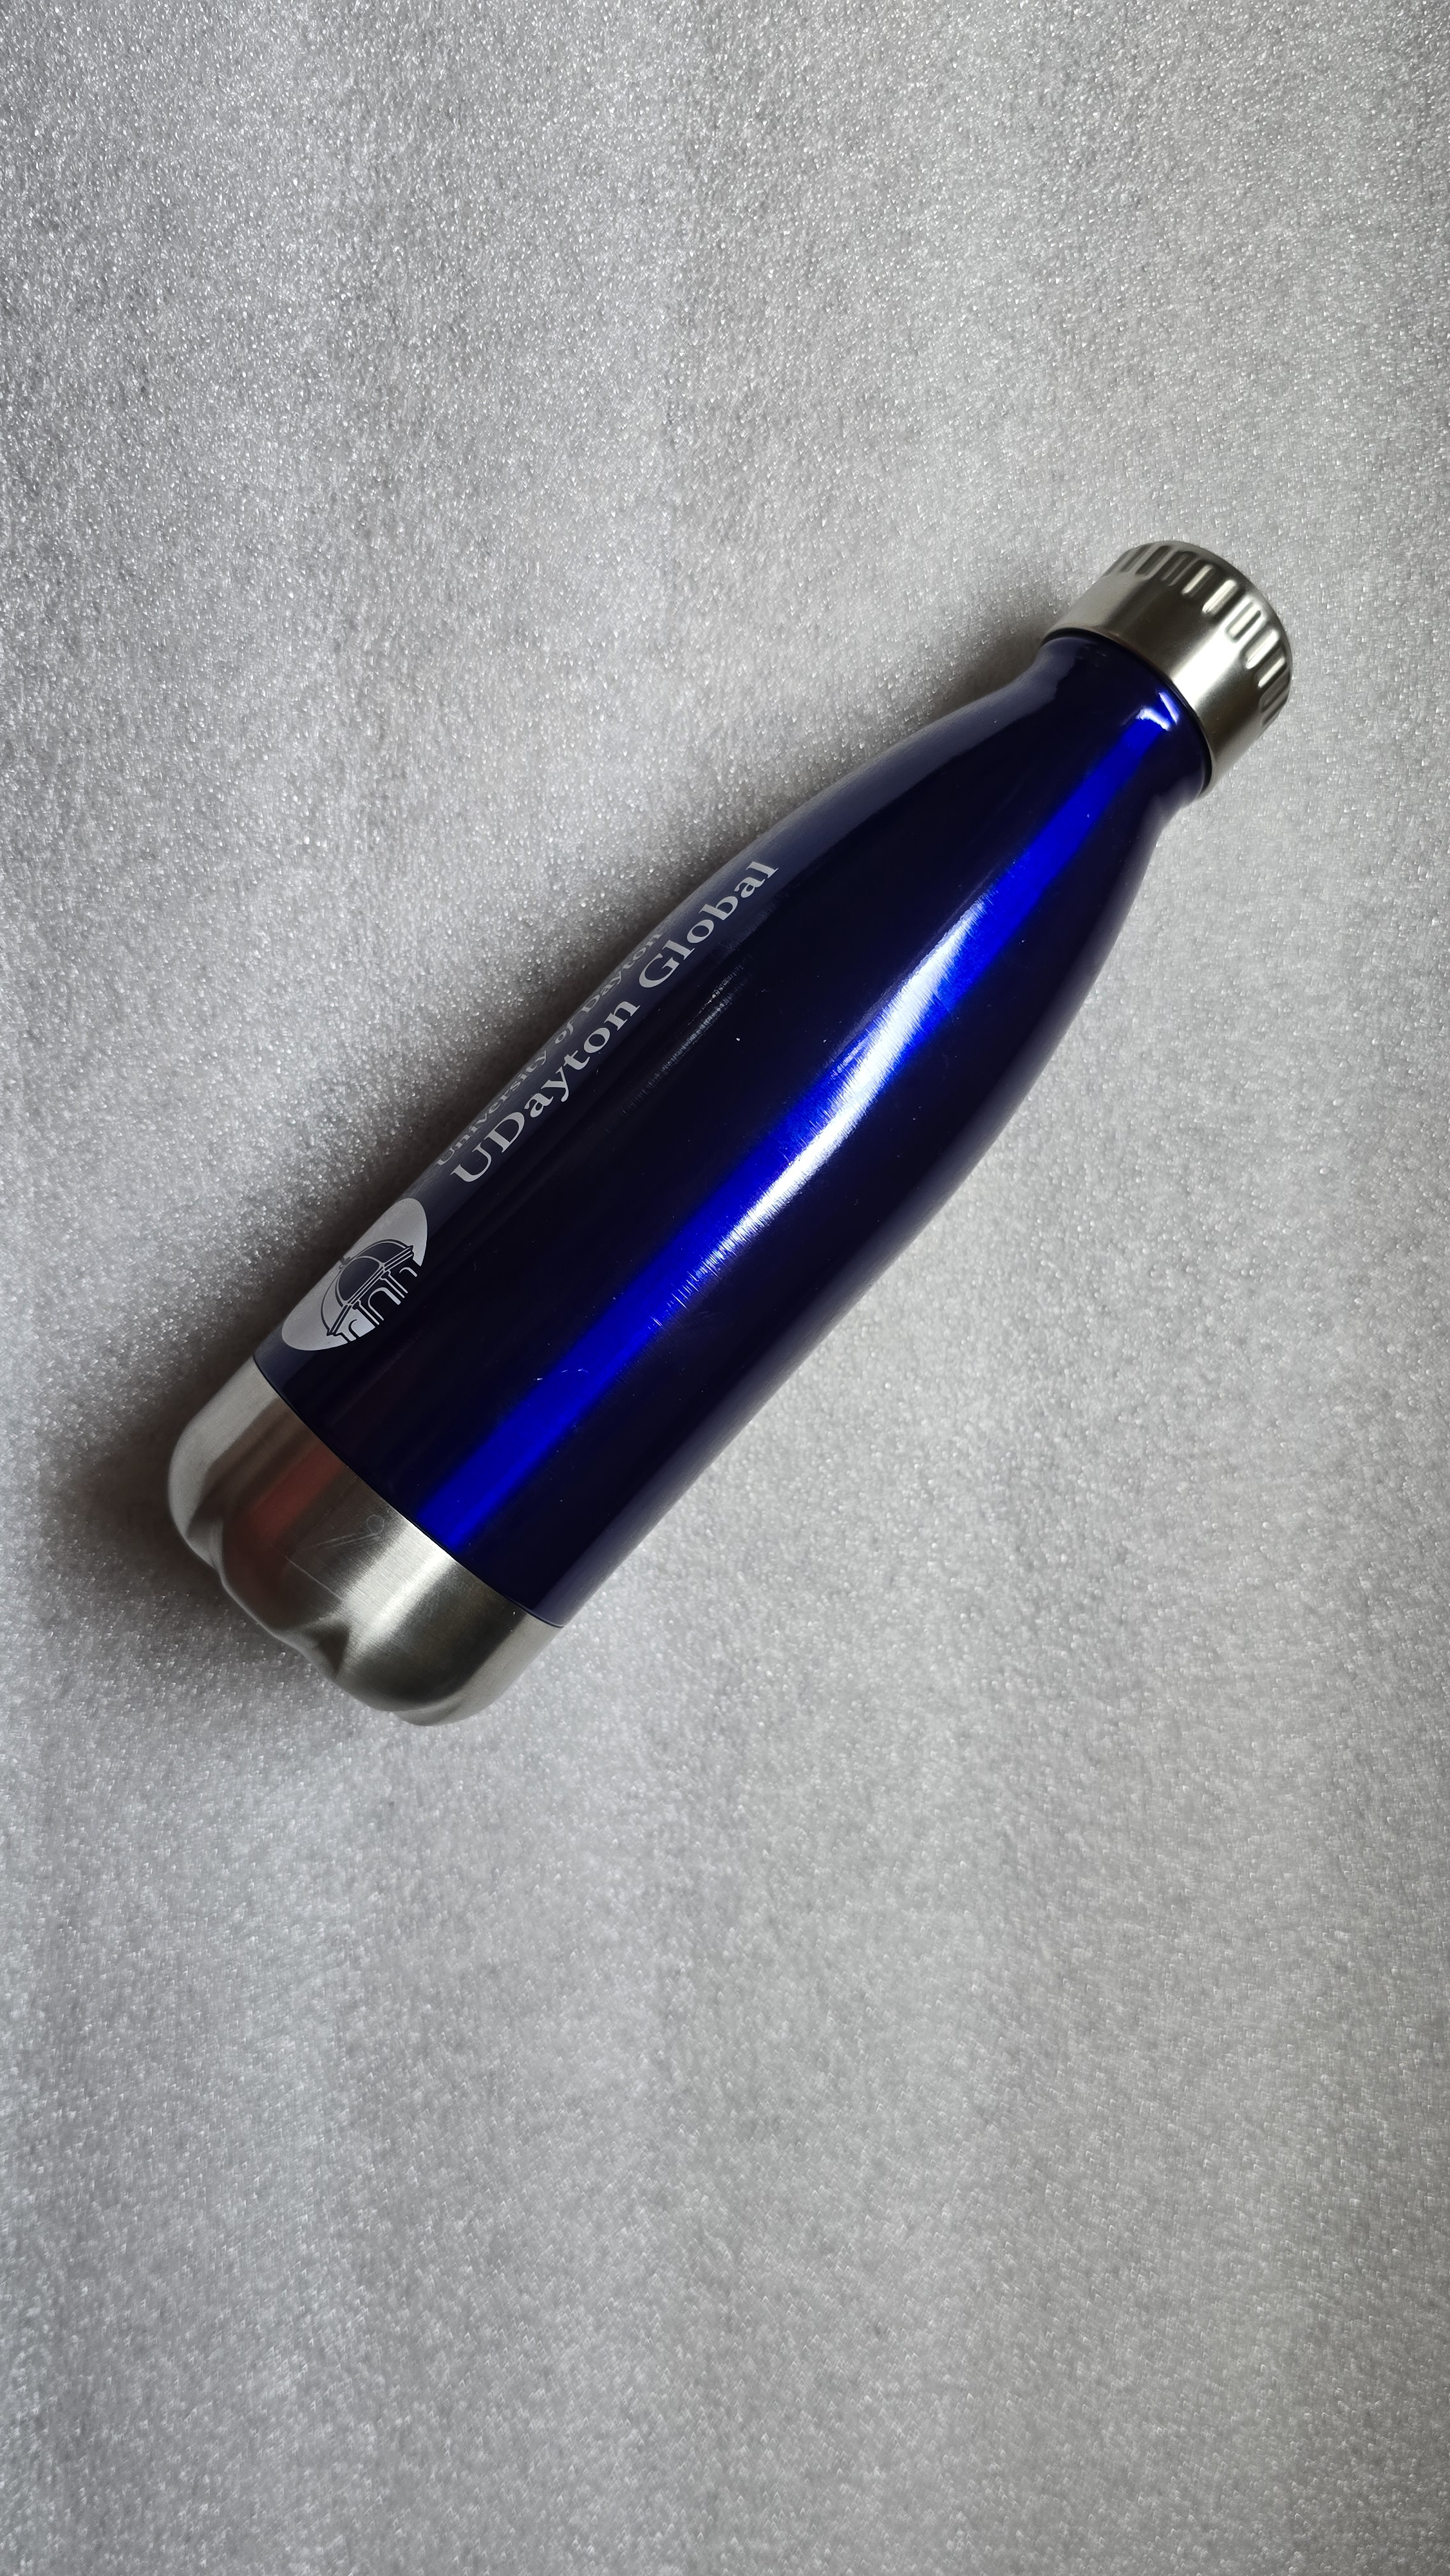bottle: (157, 448, 1360, 1778)
